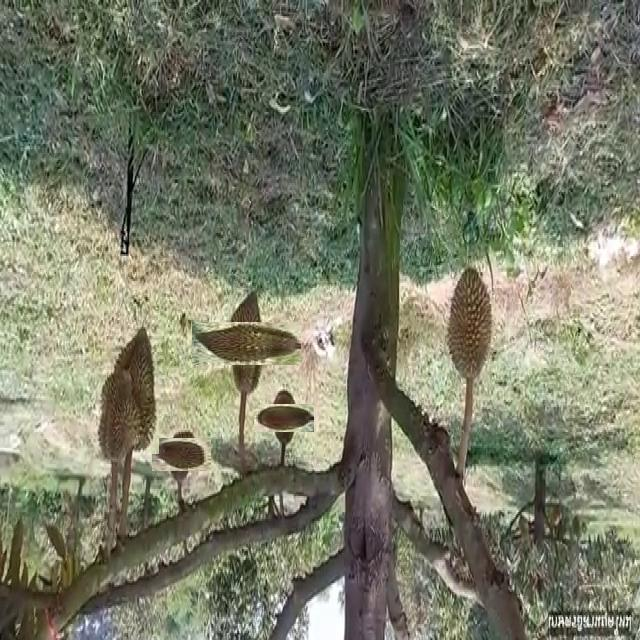durian: (107, 320, 159, 454), (444, 265, 496, 387), (208, 304, 285, 382), (96, 366, 142, 465), (159, 431, 205, 478), (262, 395, 306, 440)
